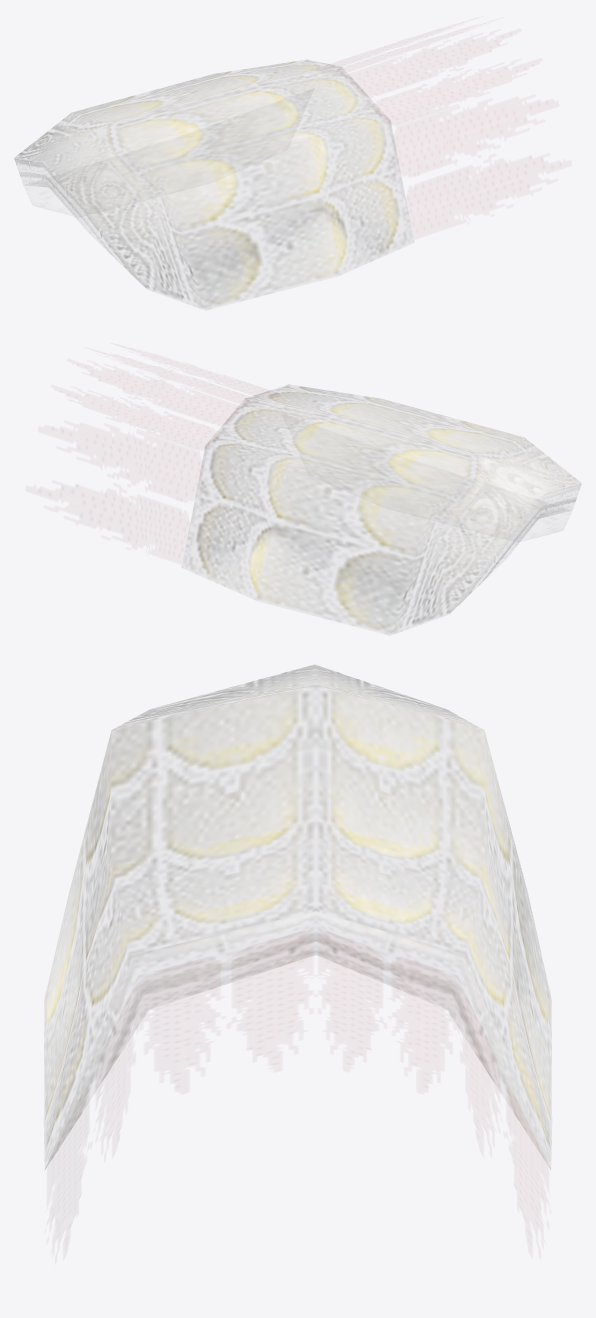
File: light_03_sa.glb
3 renders of one model, top to bottom at view 1: azimuth 30°, elevation 25°; view 2: azimuth 150°, elevation 25°; view 3: azimuth 270°, elevation 25°, orthographic. The views are drawn at different scales.
Visible parts, largest first — view 1: Light_03_sa; view 2: Light_03_sa; view 3: Light_03_sa.
Part boxes in pixels (bbox=[...]): Light_03_sa: bbox=[14, 60, 408, 308]; Light_03_sa: bbox=[186, 385, 581, 633]; Light_03_sa: bbox=[44, 665, 551, 1169].
Bounding box in the file's own units: 0.2647 × 0.0811 × 0.1226.
Materials: 1 (1 with a texture image).
